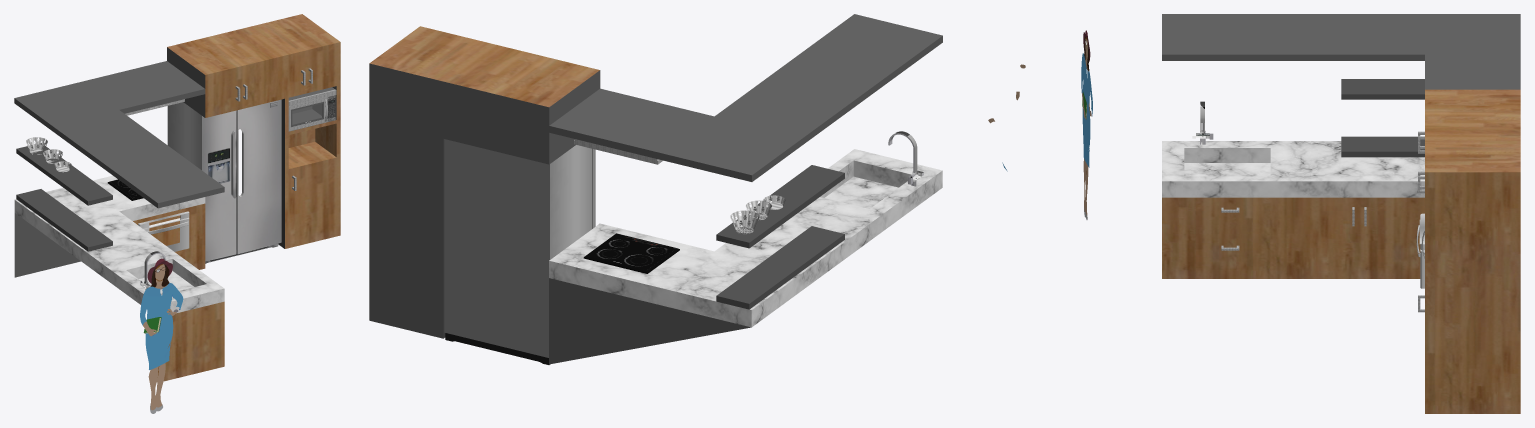
File: asset.glb
3 views of the same model, side by side, from view 1: azimuth 30°, elevation 25°; view 2: azimuth 150°, elevation 25°; view 3: azimuth 270°, elevation 25° (orthographic). The views are drawn at different scales.
Visible parts, largest first — view 1: Layer0; view 2: Layer0; view 3: Layer0.
Boxes of the visible parts, left/top/right/bottom form: Layer0: left=14, top=14, right=340, bottom=413; Layer0: left=369, top=14, right=1025, bottom=364; Layer0: left=1081, top=14, right=1520, bottom=413.
Bounding box in the file's own units: 4.08 × 2.24 × 3.67.
Materials: 55 (19 with a texture image).
